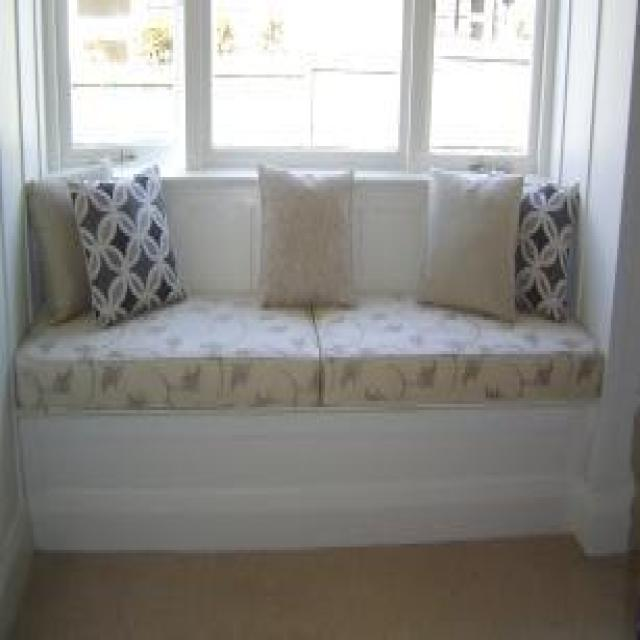carpet: (4, 528, 638, 637)
pillows: (64, 158, 186, 326), (415, 165, 523, 323), (23, 159, 113, 323), (256, 162, 354, 308), (513, 177, 579, 323)
sofa: (12, 158, 606, 553)
window: (38, 0, 571, 177)
